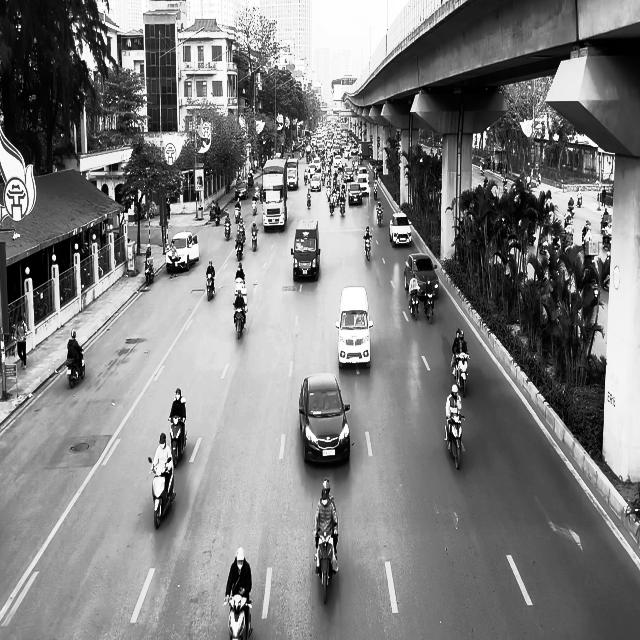bus: (261, 159, 288, 232)
car: (298, 372, 352, 465), (335, 286, 373, 369), (290, 220, 321, 282), (403, 253, 439, 298), (166, 231, 199, 272), (389, 212, 412, 247), (235, 180, 248, 200)
motorbike: (148, 456, 176, 528), (314, 528, 338, 604), (223, 592, 253, 639), (444, 414, 465, 470), (168, 415, 186, 467), (66, 349, 85, 388), (454, 352, 469, 397), (233, 303, 246, 339), (408, 287, 420, 320), (424, 290, 434, 323), (144, 258, 154, 284), (206, 274, 215, 301), (363, 235, 371, 261), (235, 237, 244, 260), (251, 229, 258, 251), (224, 220, 231, 240), (306, 190, 312, 208), (252, 198, 257, 216), (377, 208, 382, 226)
